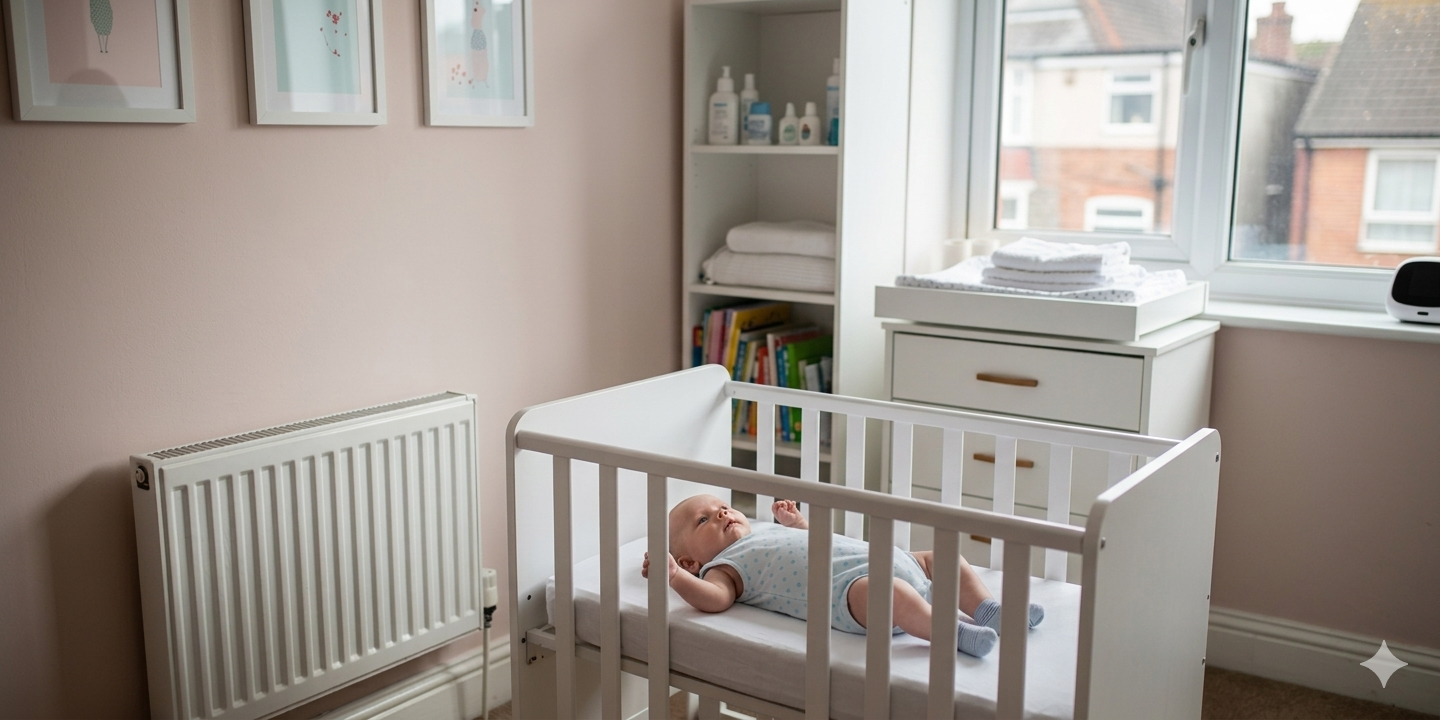baby: (642, 495, 808, 620)
crib: (508, 366, 1219, 719)
